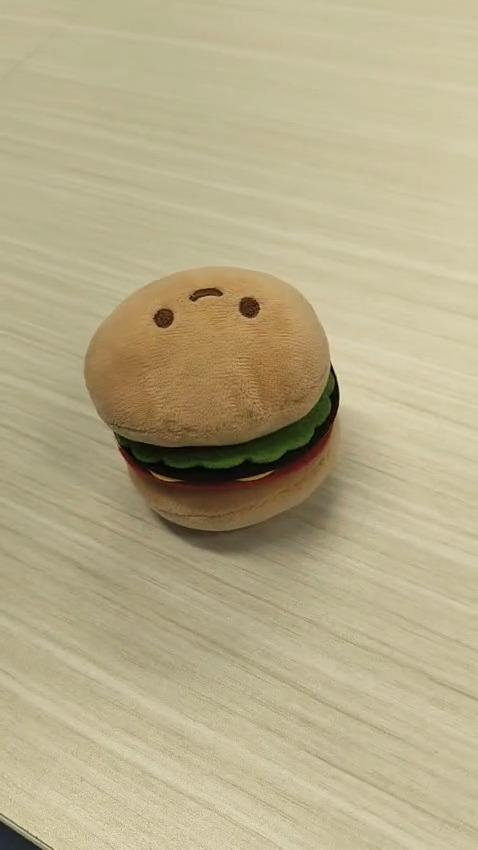hamburger: (82, 264, 340, 533)
